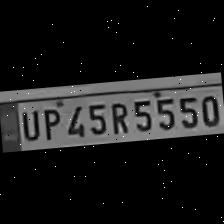0: (197, 90, 221, 127)
4: (62, 102, 86, 140)
5: (152, 94, 176, 132), (84, 100, 109, 136), (128, 96, 152, 132), (175, 92, 199, 128)
P: (38, 104, 61, 140)
R: (106, 97, 130, 136)
U: (16, 106, 41, 140)
